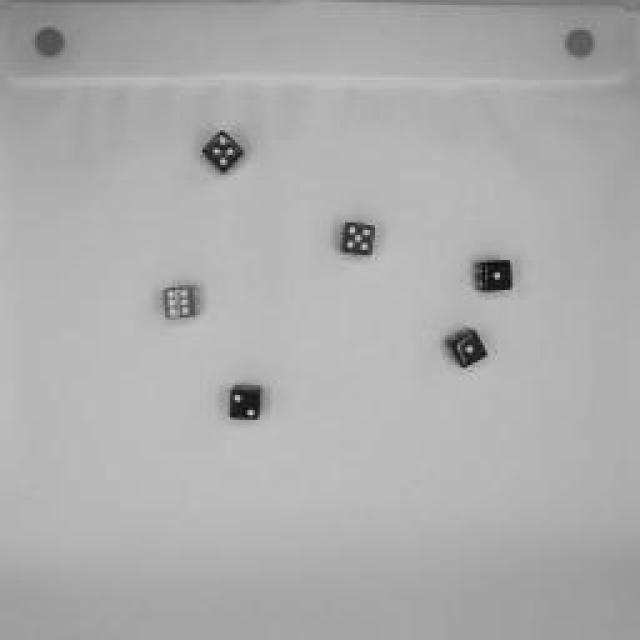dice_1: (440, 324, 495, 374), (470, 252, 520, 300)
dice_2: (222, 377, 272, 425)
dice_4: (195, 125, 255, 180)
dice_5: (332, 215, 382, 267)
dice_6: (160, 282, 205, 328)
